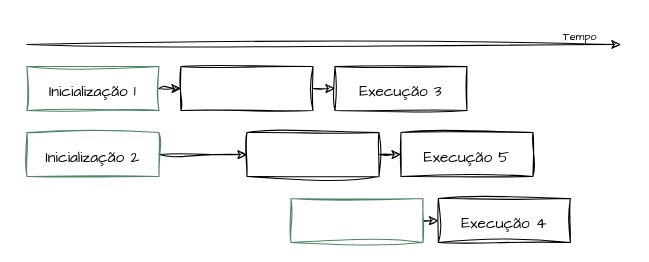
Image size: 649x262. Some labels were removed from this diagram. The shapes that lost their labels are listed below. From the top down, each one's centre as x and y in pixels, then its label:
At point (246, 88): "Execução 1".
At point (312, 154): "Execução 2".
At point (356, 220): "Inicialização 3".
